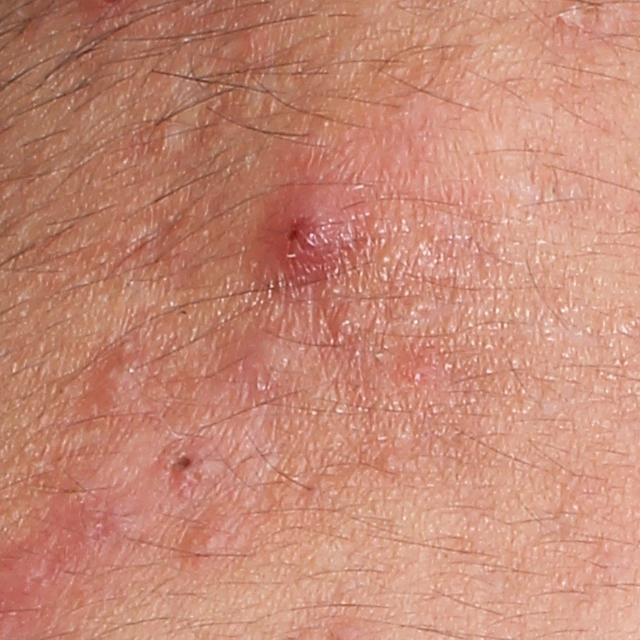papule: (83, 329, 156, 420), (146, 431, 227, 490), (233, 328, 297, 385)
